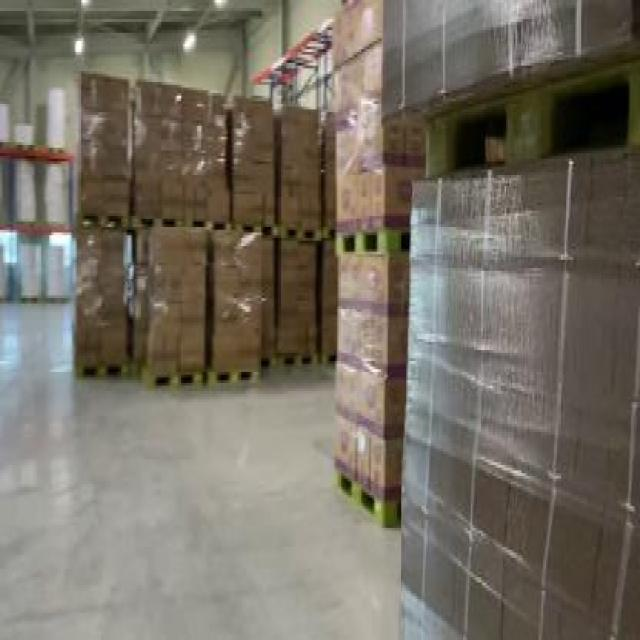box: (391, 153, 638, 635), (71, 71, 340, 386), (331, 2, 440, 530)
white_roll: (11, 159, 38, 224), (42, 164, 69, 227), (16, 241, 42, 301), (45, 82, 66, 153), (48, 241, 68, 301), (14, 118, 38, 153)
